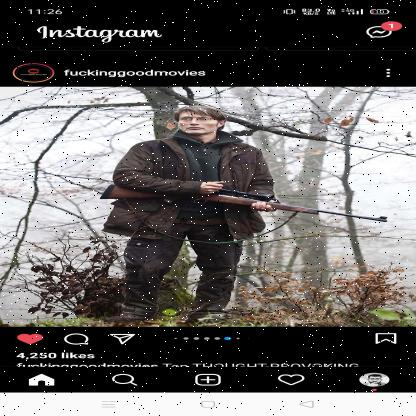rifle: (98, 184, 388, 223)
